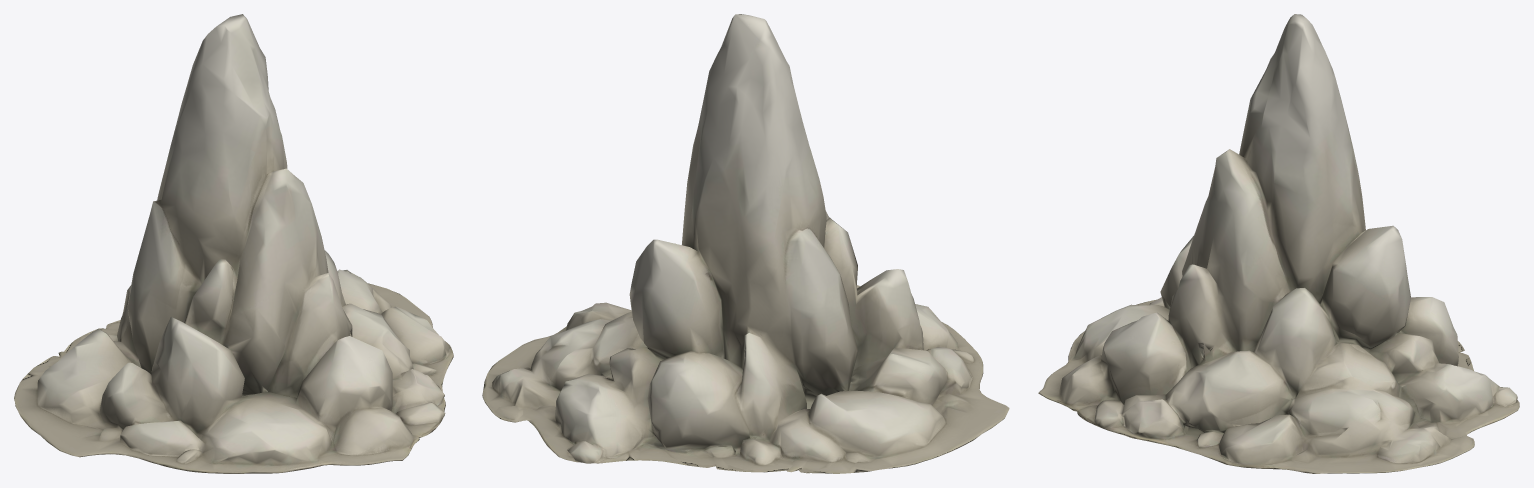
Rendered from boulder2.fbx.
The picture shows the model from 3 angles, left to right: view 1: azimuth 30°, elevation 25°; view 2: azimuth 150°, elevation 25°; view 3: azimuth 270°, elevation 25°; orthographic projection. The views are drawn at different scales.
Parts seen in each view (by area): view 1: tripo_node_ac6ca48c; view 2: tripo_node_ac6ca48c; view 3: tripo_node_ac6ca48c.
Part boxes in pixels (x1=…): tripo_node_ac6ca48c: x1=14, y1=14, x2=453, y2=473; tripo_node_ac6ca48c: x1=482, y1=14, x2=1009, y2=473; tripo_node_ac6ca48c: x1=1038, y1=14, x2=1519, y2=473.
Bounding box in the file's own units: 0.9758 × 0.8056 × 0.98.
